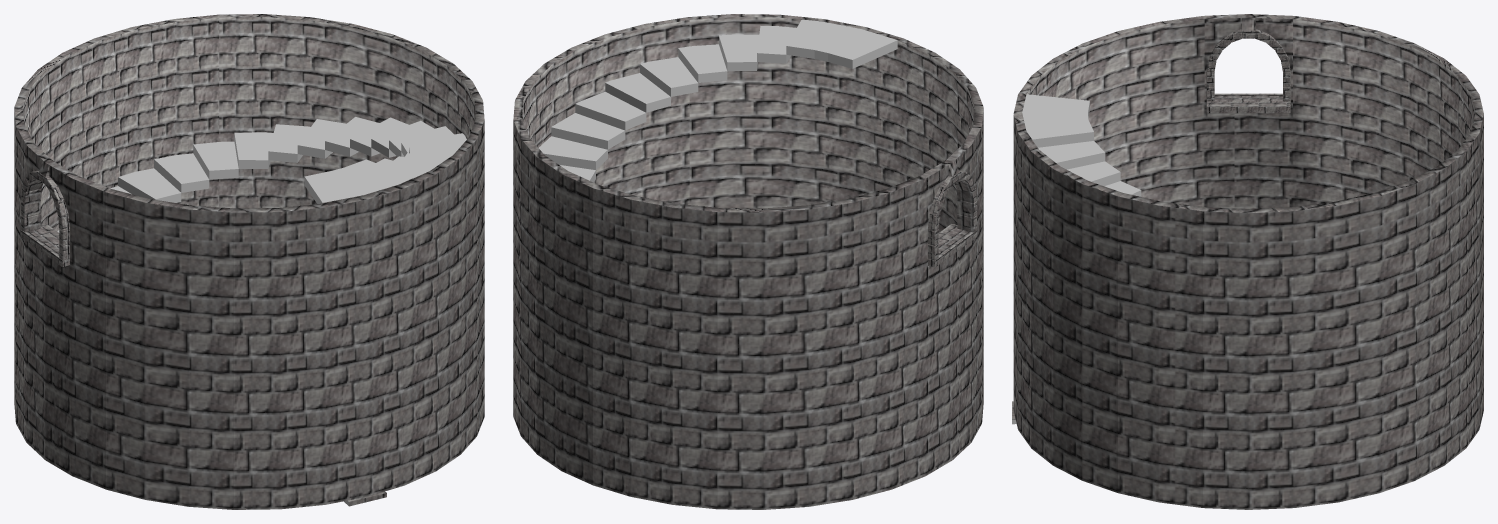
Rendered from WindowFlame_11.fbx.
3 views of the same model, side by side, from view 1: azimuth 30°, elevation 25°; view 2: azimuth 150°, elevation 25°; view 3: azimuth 270°, elevation 25° (orthographic).
Visible parts, largest first — view 1: Cylinder.001; view 2: Cylinder.001; view 3: Cylinder.001.
Boxes of the visible parts, bbox=[...] form: Cylinder.001: bbox=[14, 14, 484, 509]; Cylinder.001: bbox=[513, 14, 983, 509]; Cylinder.001: bbox=[1012, 14, 1483, 509].
Size of the model in its own units: 938 by 659 by 932.
